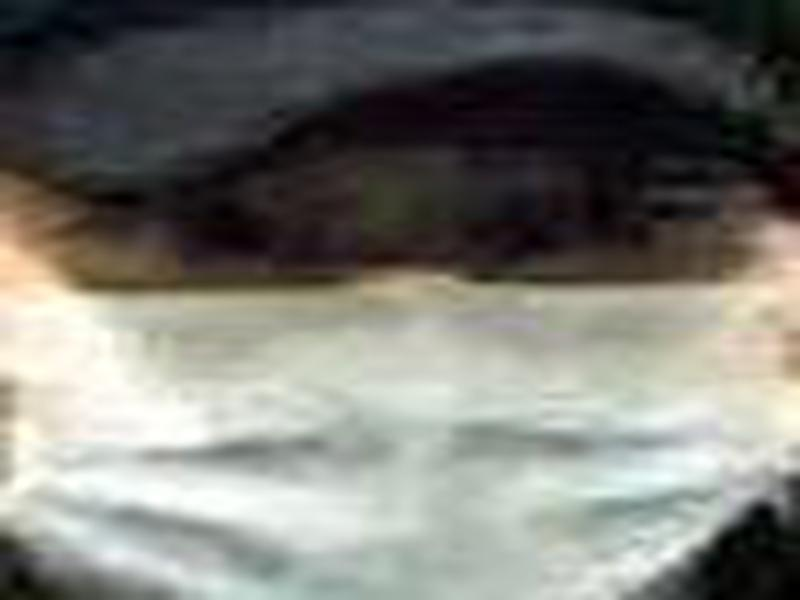with_mask: (1, 119, 799, 600)
